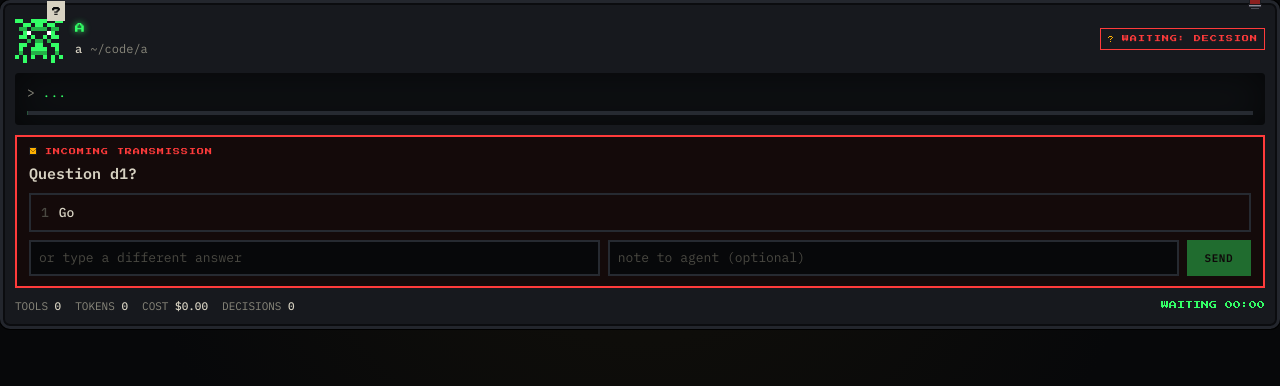
Test case: Station › a card that stopped waiting leaves a notice instead of a stamp
The image size is (1280, 386).
Click the button "1 Go". click: (45, 212)
box: [29,192,1251,232]
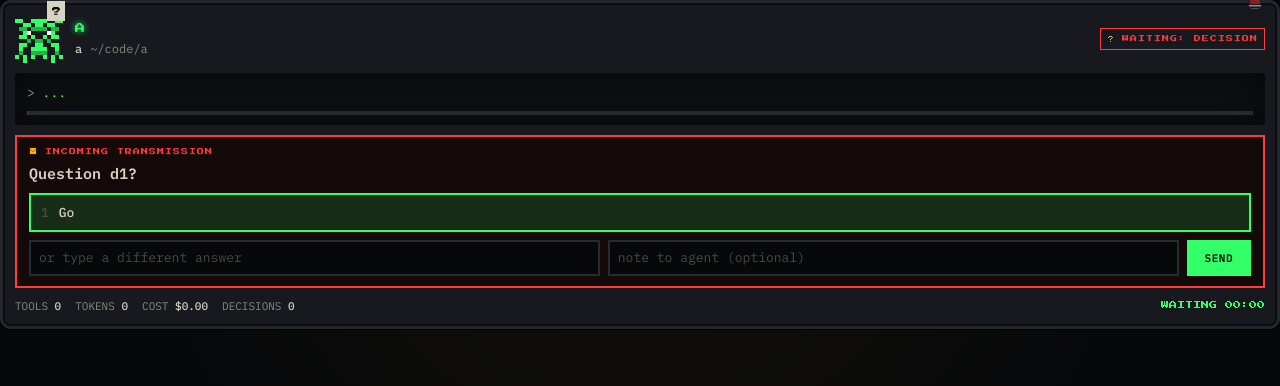
Click the button "Send". click: (1219, 258)
box: [1187,240,1251,276]
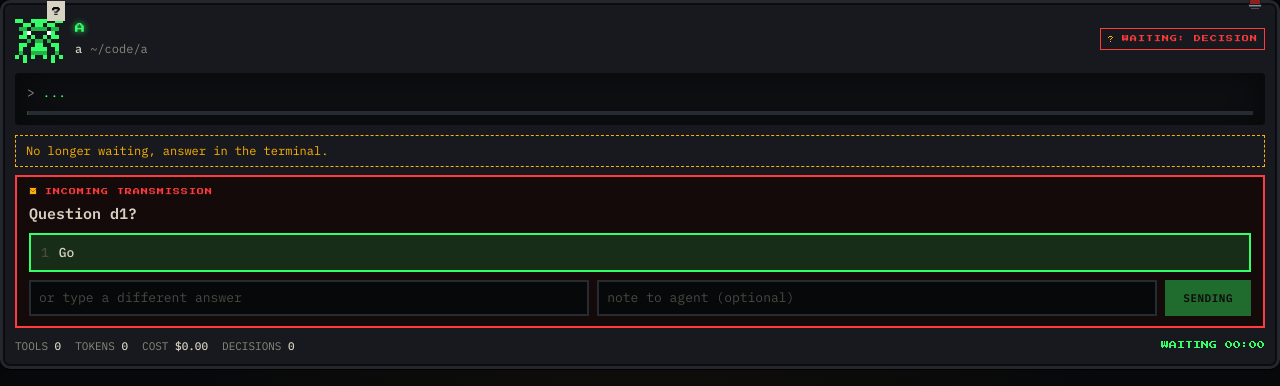
Result: the text "No longer waiting, answer in the terminal." is shown at [15,134,1265,166]
